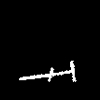double_crochet: (19, 61, 75, 81)
